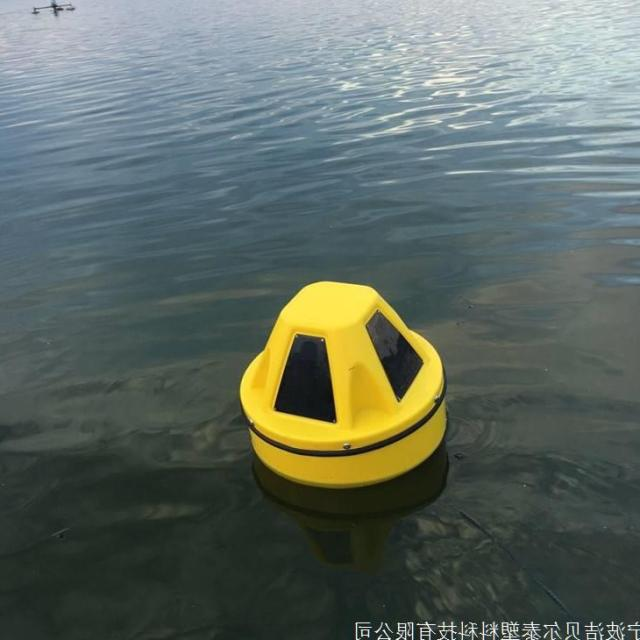buoy: (231, 277, 452, 481)
